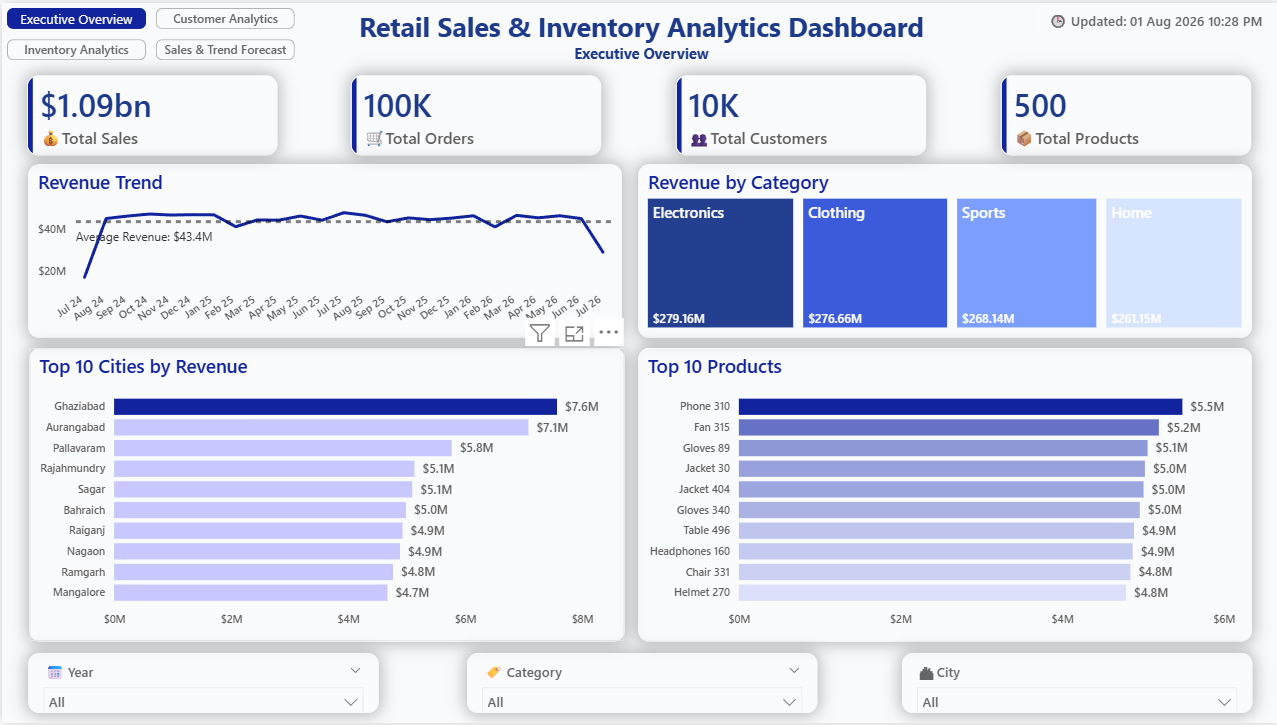

Layout of this report page (visuals, bound fields, positions):
{"tool":"powerbi","page":{"name":"Executive Overview","canvas":[1280,720],"ordinal":0},"visuals":[{"type":"textbox","box":[260,5,758.8,72.5],"z":0},{"type":"cardVisual","fields":{"Data":["_Measures.Total Revenue"]},"box":[25.3,72.2,250,80],"z":1000},{"type":"cardVisual","fields":{"Data":["_Measures.Total Products"]},"box":[999,72.2,250,80],"z":2000},{"type":"cardVisual","fields":{"Data":["_Measures.Total Customers"]},"box":[674,72.2,250,80],"z":3000},{"type":"cardVisual","fields":{"Data":["_Measures.Total Orders"]},"box":[349,72.2,250,80],"z":4000},{"type":"lineChart","title":"Revenue Trend","fields":{"Y":["_Measures.Total Revenue"],"Category":["Calendar.Month Year"]},"box":[26.2,161.2,593.8,173.8],"z":5000},{"type":"treemap","title":"Revenue by Category","fields":{"Group":["Products.Category"],"Values":["_Measures.Total Revenue"]},"box":[636.2,161.2,613.8,173.8],"z":6000},{"type":"clusteredBarChart","title":"Top 10 Cities by Revenue","fields":{"Category":["Customers.City"],"Y":["_Measures.Total Revenue"]},"box":[27.5,345,595,293.8],"z":7000},{"type":"clusteredBarChart","title":"Top 10 Products","fields":{"Category":["Products.ProductName"],"Y":["_Measures.Total Revenue"]},"box":[636.2,345,613.8,293.8],"z":8000},{"type":"shape","box":[0,650,1280,70],"z":9000},{"type":"slicer","fields":{"Values":["Calendar.Year"]},"box":[26.2,650,350,60],"z":10000},{"type":"slicer","fields":{"Values":["Customers.City"]},"box":[900,650,350,60],"z":11000},{"type":"slicer","fields":{"Values":["Products.Category"]},"box":[465,650,350,60],"z":12000},{"type":"pageNavigator","box":[5,5,288.8,52.5],"z":13000},{"type":"cardVisual","fields":{"Data":["_Measures.Last Refresh Text"]},"box":[1035,0,245,33.8],"z":14000}]}

Visuals, with their boxes in screenshot pixels (x1, y1, x2, y2), scaled from the page's 1280x720 canvas onto the 1277x725 screenshot:
textbox: select_region(259, 5, 1016, 78)
cardVisual - _Measures.Total Revenue: select_region(25, 73, 275, 153)
cardVisual - _Measures.Total Products: select_region(997, 73, 1246, 153)
cardVisual - _Measures.Total Customers: select_region(672, 73, 922, 153)
cardVisual - _Measures.Total Orders: select_region(348, 73, 598, 153)
"Revenue Trend" lineChart: select_region(26, 162, 619, 337)
"Revenue by Category" treemap: select_region(635, 162, 1247, 337)
"Top 10 Cities by Revenue" clusteredBarChart: select_region(27, 347, 621, 643)
"Top 10 Products" clusteredBarChart: select_region(635, 347, 1247, 643)
shape: select_region(0, 655, 1276, 724)
slicer - Calendar.Year: select_region(26, 655, 375, 715)
slicer - Customers.City: select_region(898, 655, 1247, 715)
slicer - Products.Category: select_region(464, 655, 813, 715)
pageNavigator: select_region(5, 5, 293, 58)
cardVisual - _Measures.Last Refresh Text: select_region(1033, 0, 1276, 34)
